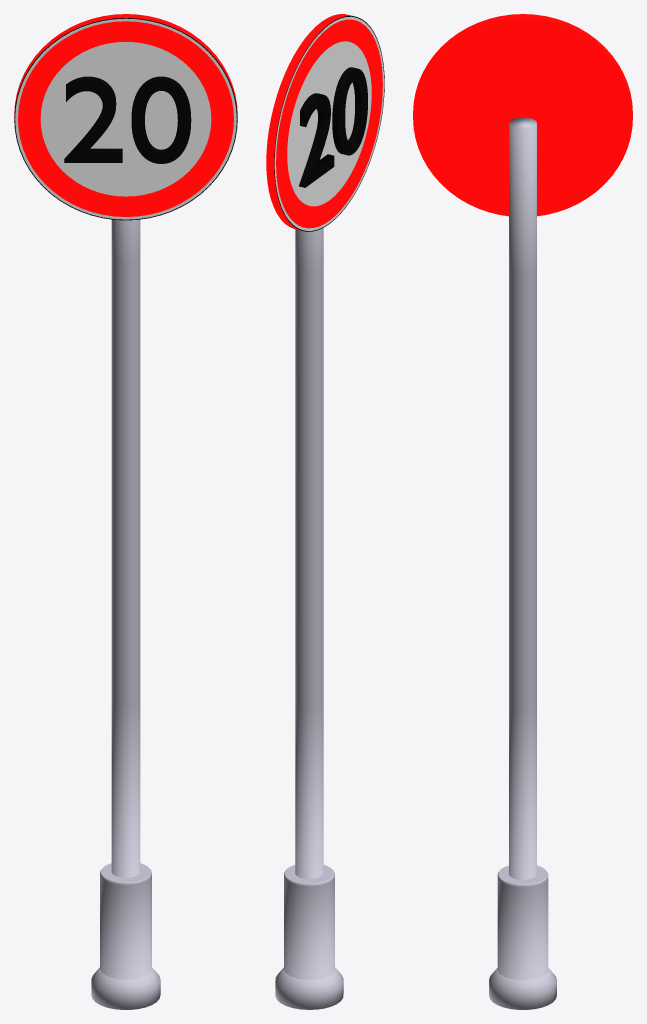
The model's file is AzamiHizSiniri20.dae.
The picture shows the model from 3 angles, left to right: view 1: azimuth 90°, elevation 25°; view 2: azimuth 150°, elevation 25°; view 3: azimuth 270°, elevation 25°; orthographic projection.
Visible parts, largest first — view 1: S_limit20_sing, S_limit_20_body, Text; view 2: S_limit_20_body, S_limit20_sing, Text; view 3: S_limit20_sing, S_limit_20_body.
Part boxes in pixels (bbox=[...]): S_limit20_sing: bbox=[14, 14, 237, 220]; S_limit_20_body: bbox=[91, 219, 160, 1009]; Text: bbox=[64, 76, 191, 163]; S_limit_20_body: bbox=[275, 228, 343, 1009]; S_limit20_sing: bbox=[266, 14, 384, 231]; Text: bbox=[299, 67, 367, 187]; S_limit20_sing: bbox=[413, 14, 632, 216]; S_limit_20_body: bbox=[489, 117, 556, 1009].
Size of the model in its own units: 0.1839 by 0.6 by 2.93.
